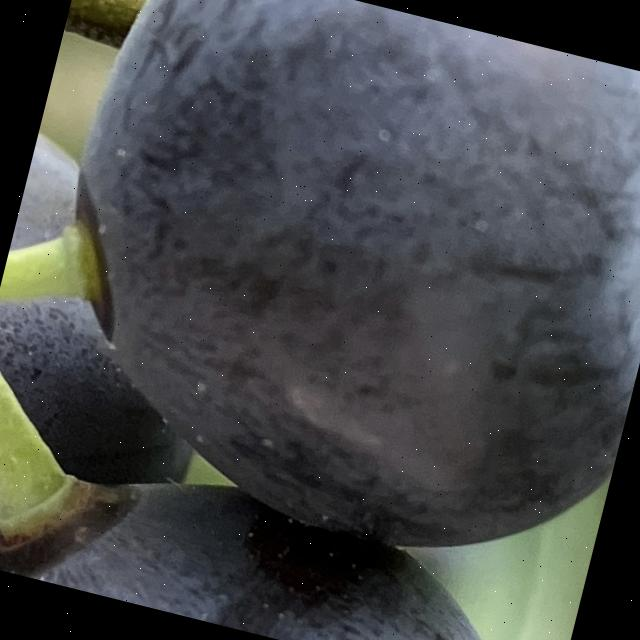Blueberries: (0, 0, 640, 595), (0, 416, 575, 640)
